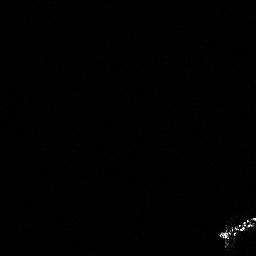ship: (213, 214, 256, 248)
